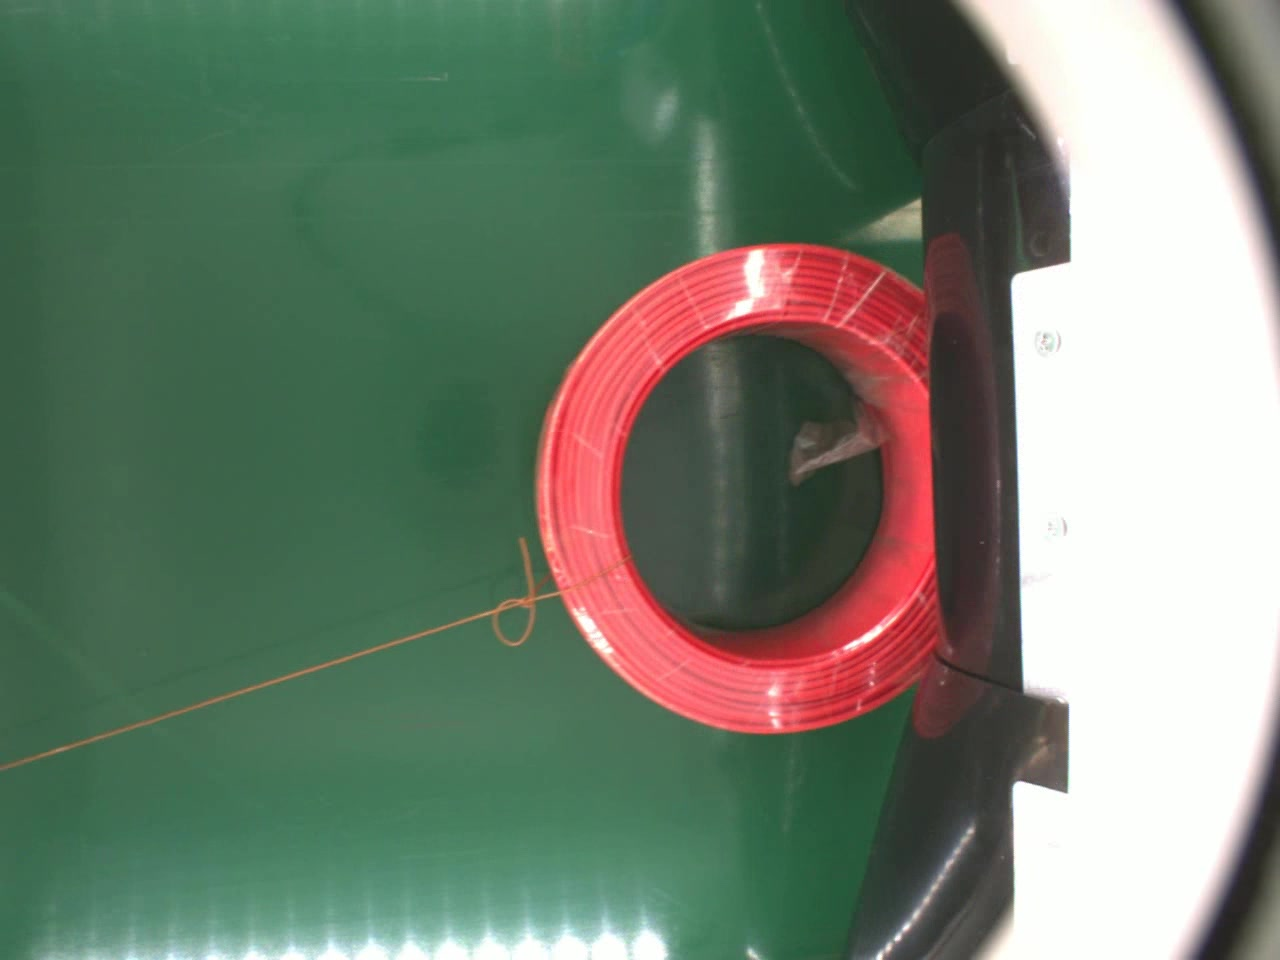red: (526, 241, 948, 735)
